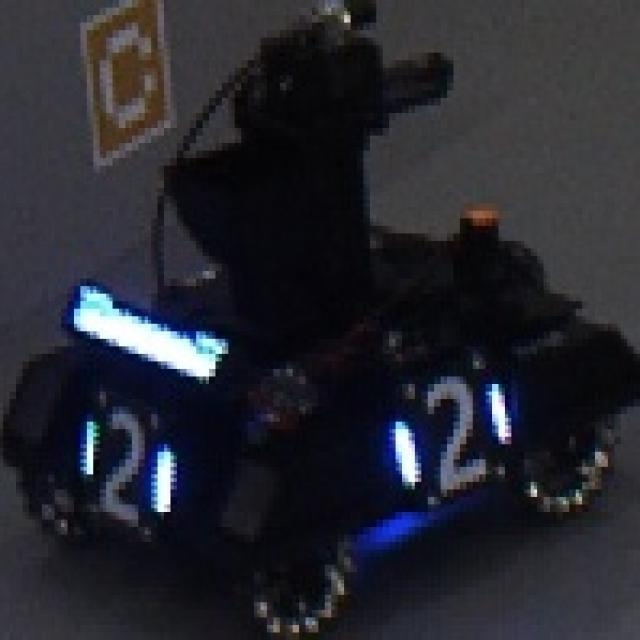B2: (392, 373, 512, 493), (80, 403, 177, 527)
